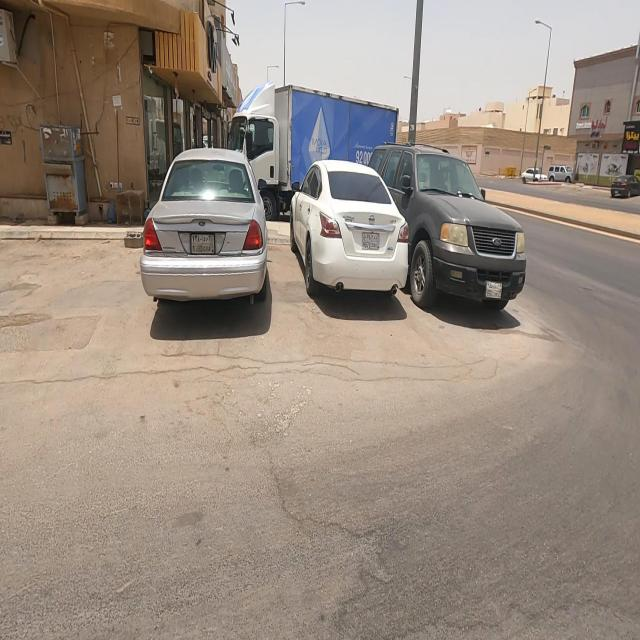Graffiti: (14, 104, 38, 136), (1, 110, 16, 130)
